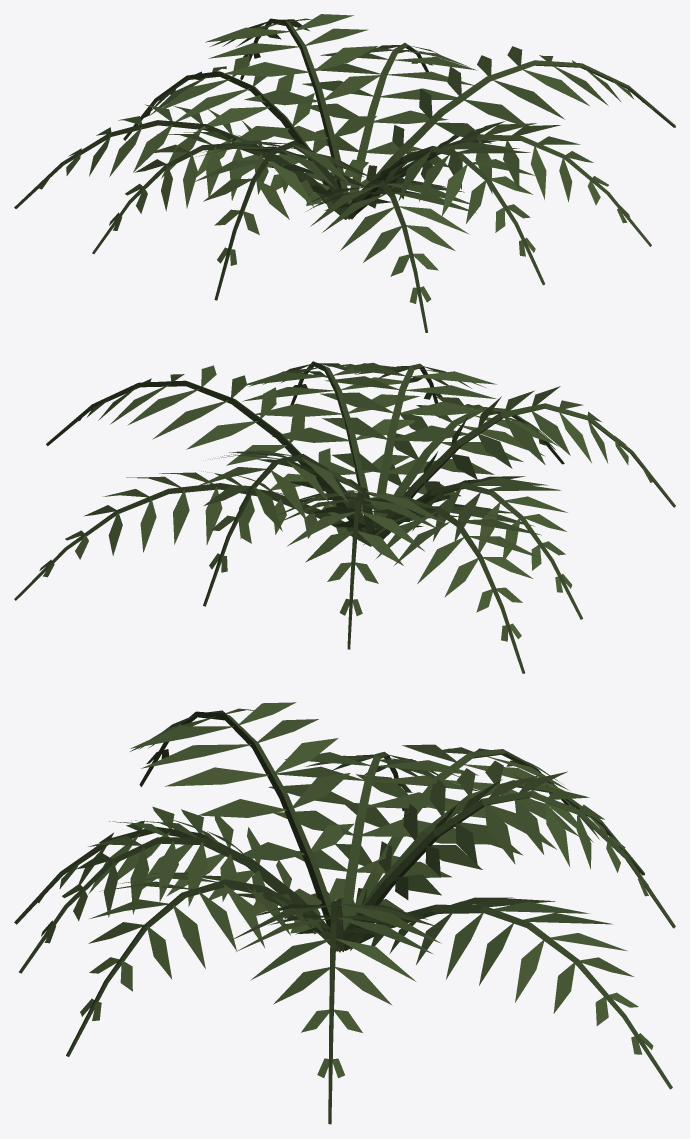
Rendered from fern.glb.
3 views of the same model, one above another, from view 1: azimuth 30°, elevation 25°; view 2: azimuth 150°, elevation 25°; view 3: azimuth 270°, elevation 25° (orthographic). The views are drawn at different scales.
Parts seen in each view (by area): view 1: fern; view 2: fern; view 3: fern.
Boxes of the visible parts, left/top/right/bottom form: fern: left=14, top=14, right=675, bottom=332; fern: left=14, top=361, right=675, bottom=673; fern: left=14, top=702, right=675, bottom=1124.
Size of the model in its own units: 1.71 by 0.4221 by 1.42.
